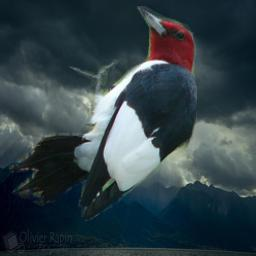Woodpecker: (9, 6, 197, 221)
